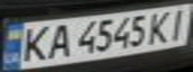4: (75, 18, 100, 55), (112, 14, 136, 50)
5: (127, 12, 151, 47), (93, 16, 115, 53)
A: (42, 20, 75, 60)
I: (163, 6, 193, 40)
K: (15, 22, 54, 63), (145, 8, 175, 45)
